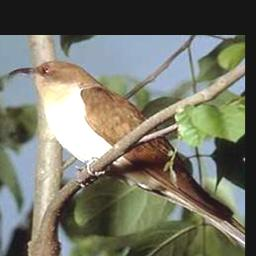Cuckoo: (7, 57, 245, 245)
